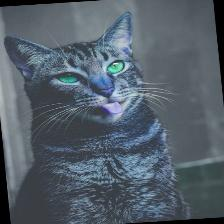kedo: (5, 11, 191, 220)
